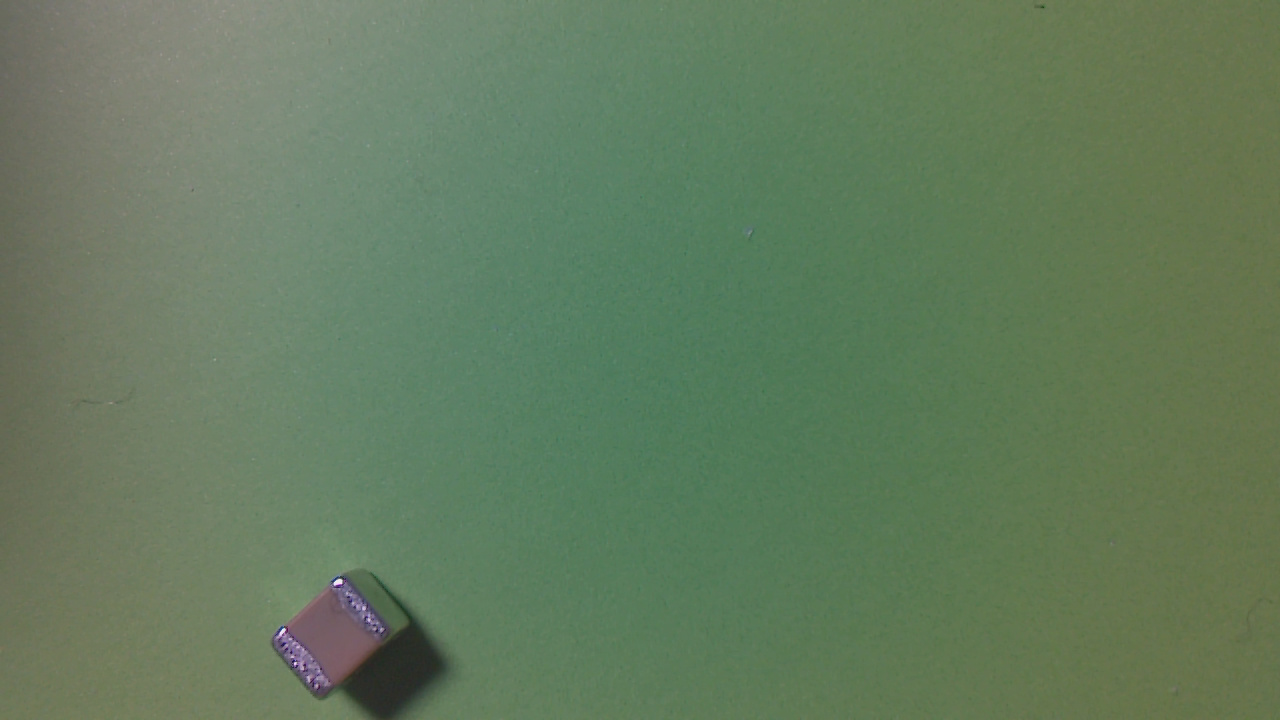Condensator: (273, 572, 401, 709)
